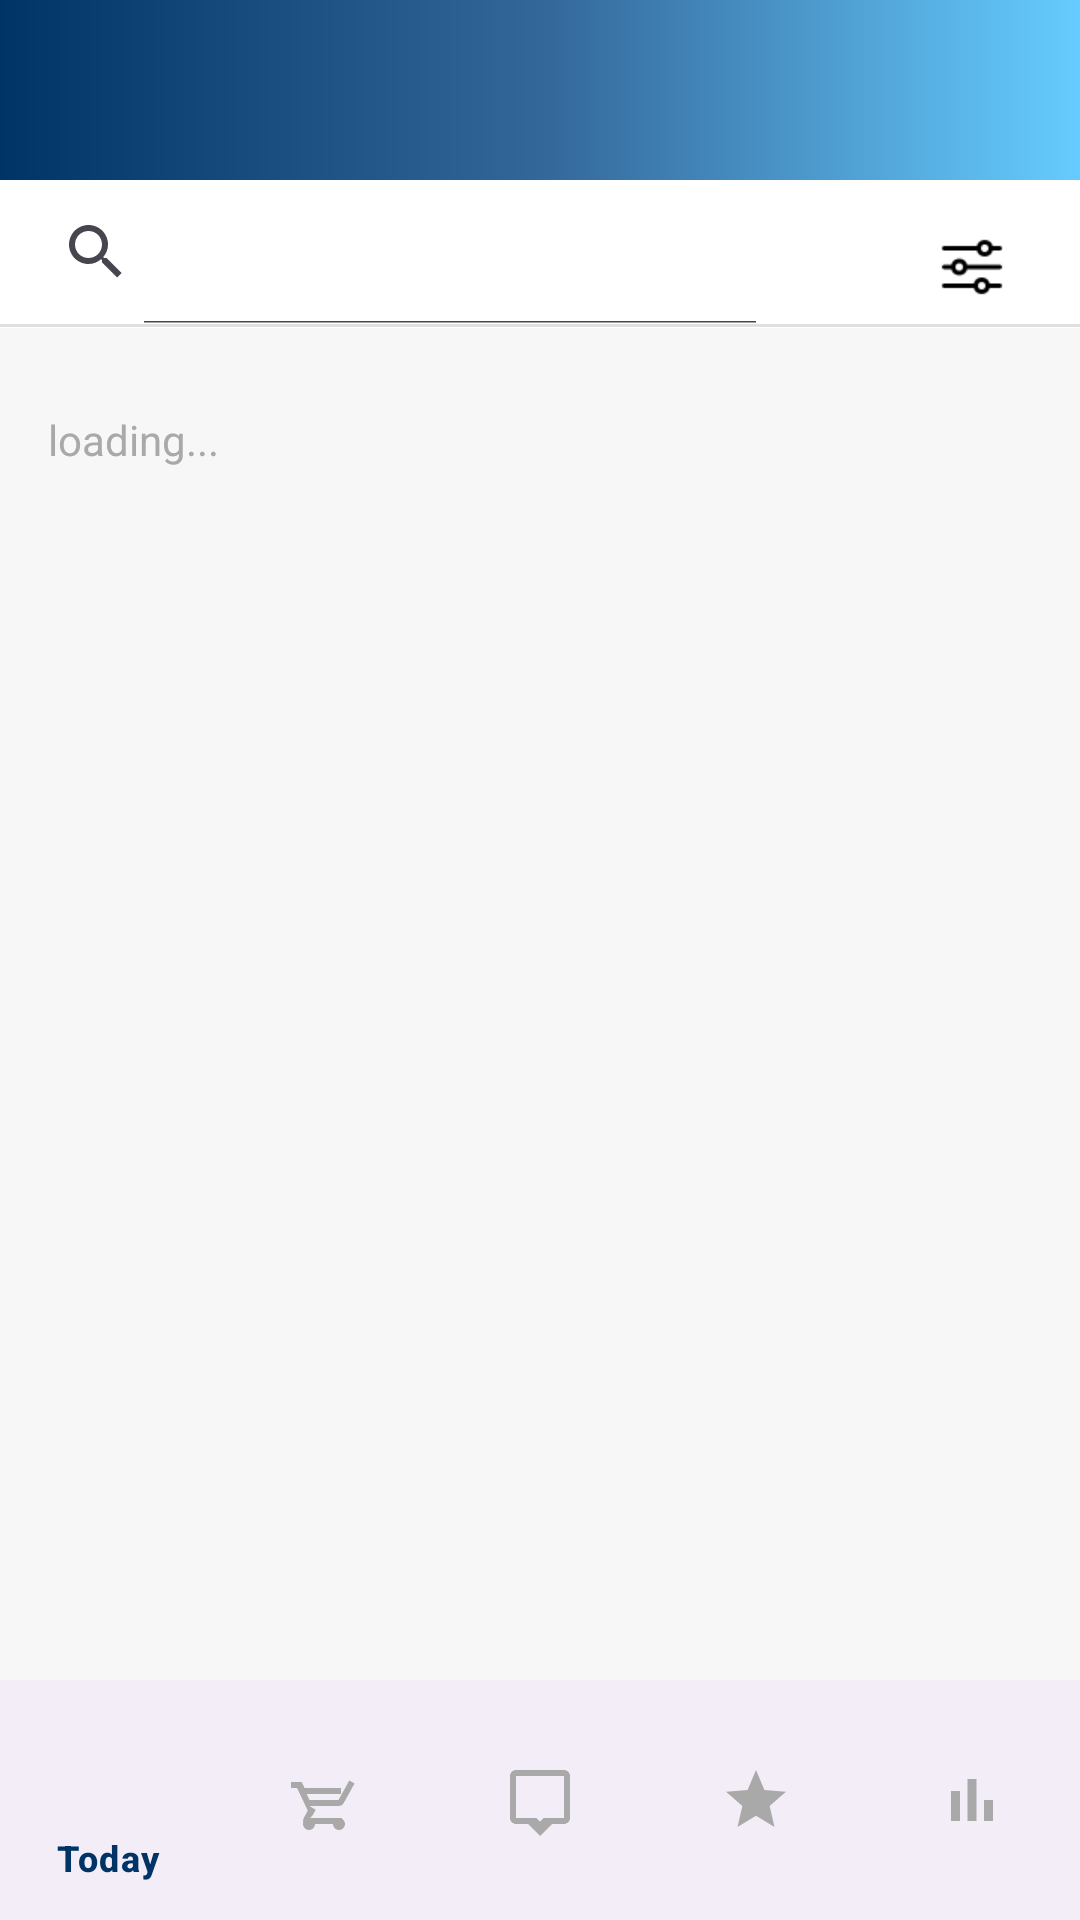

Named icons in this screenshot (1080px×1920px) and their bounding boxes, (x1, y1, x2, y2):
Filter: (941, 239, 1003, 295)
